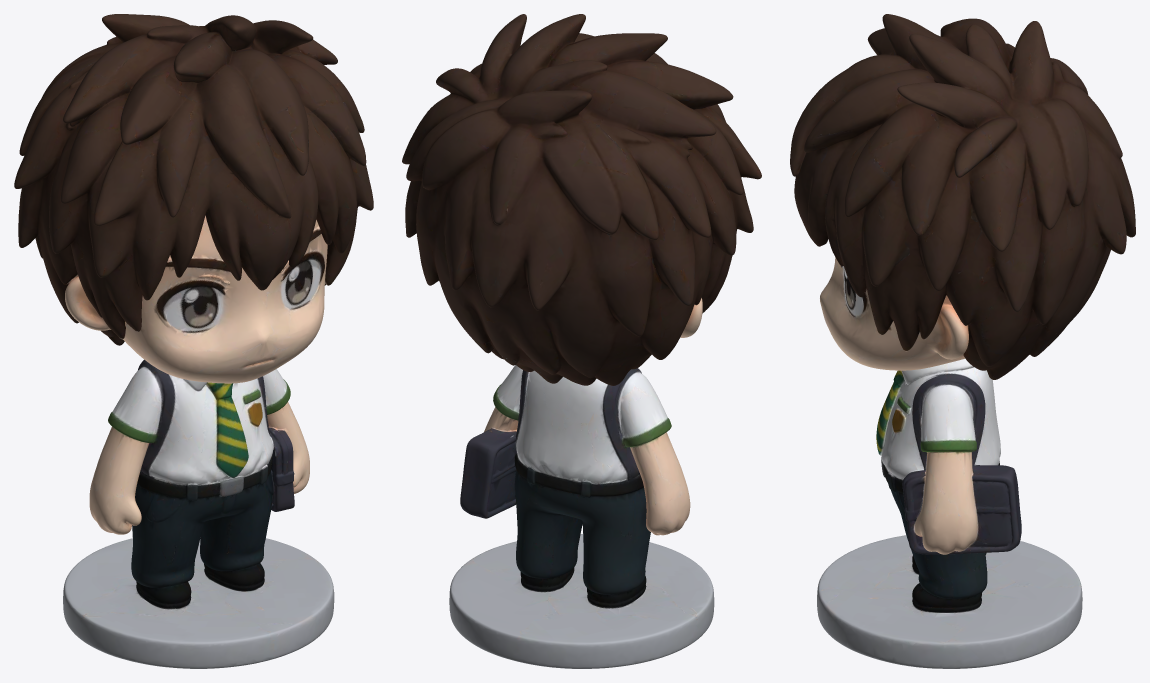
Rendered from estudiante-tokio-chibi.glb.
3 renders of one model, left to right at view 1: azimuth 30°, elevation 25°; view 2: azimuth 150°, elevation 25°; view 3: azimuth 270°, elevation 25°, orthographic. The views are drawn at different scales.
Bounding box in the file's own units: 1.05 × 1.9 × 1.01.
1 material, 1 textured.
